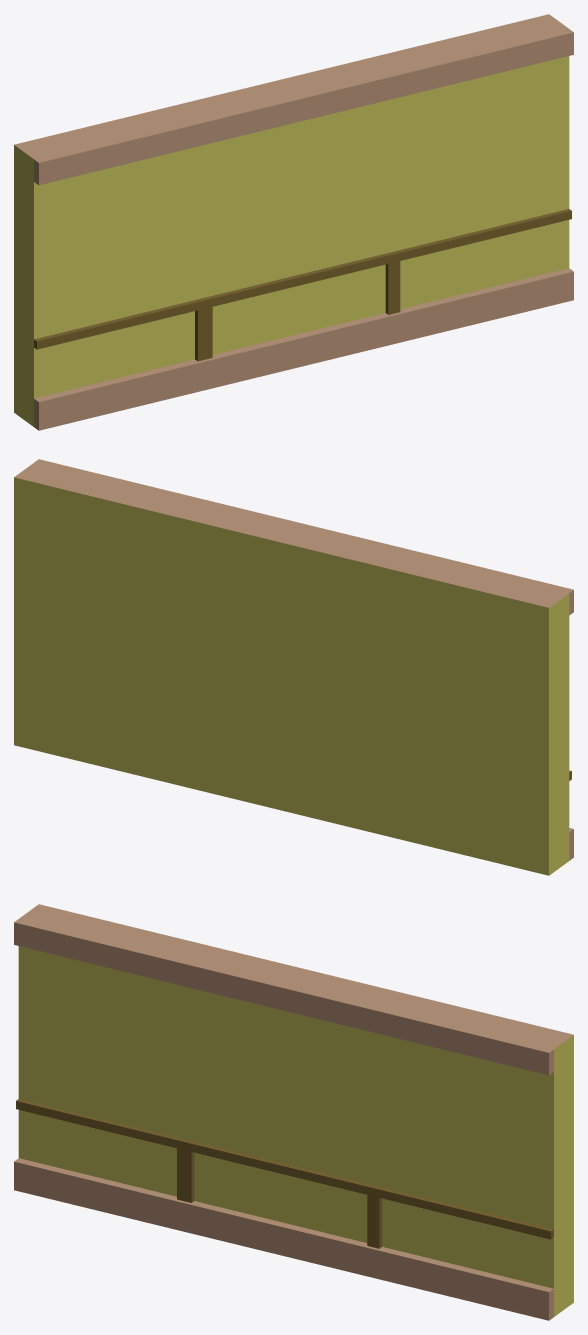
File: SM_Wall.fbx
3 renders of one model, top to bottom at view 1: azimuth 30°, elevation 25°; view 2: azimuth 150°, elevation 25°; view 3: azimuth 330°, elevation 25°, orthographic.
Visible parts, largest first — view 1: SM_Wall_500x240; view 2: SM_Wall_500x240; view 3: SM_Wall_500x240.
Part boxes in pixels (<box>): SM_Wall_500x240: <box>14,14,573,430</box>; SM_Wall_500x240: <box>14,459,573,875</box>; SM_Wall_500x240: <box>14,904,573,1320</box>.
Size of the model in its own units: 500 by 239 by 40.27.
